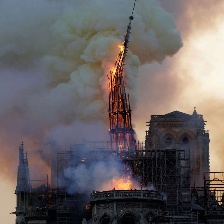fire: (105, 44, 125, 97), (104, 177, 135, 190)
smoke: (1, 1, 213, 180)
